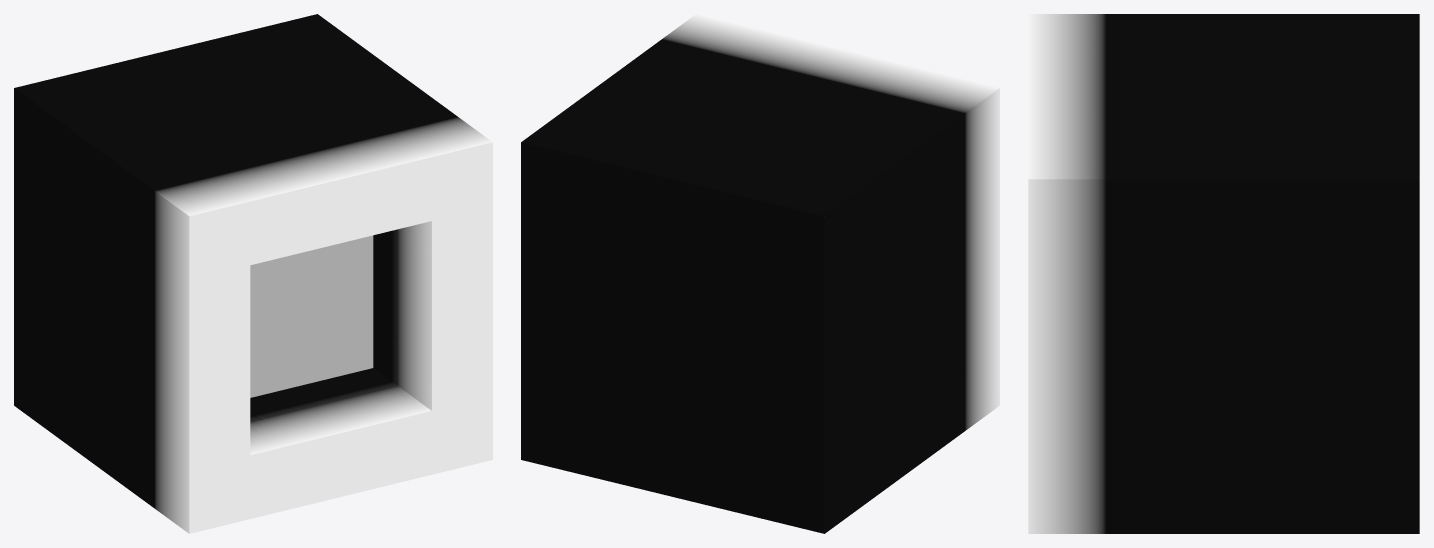
File: testLevelChange.glb
3 views of the same model, side by side, from view 1: azimuth 30°, elevation 25°; view 2: azimuth 150°, elevation 25°; view 3: azimuth 270°, elevation 25° (orthographic). The views are drawn at different scales.
Parts seen in each view (by area): view 1: Cube, mapChangeTrigger; view 2: Cube; view 3: Cube.
Part boxes in pixels (x1=…): Cube: x1=14, y1=14, x2=492, y2=533; mapChangeTrigger: x1=250, y1=235, x2=373, y2=397; Cube: x1=521, y1=14, x2=999, y2=533; Cube: x1=1028, y1=14, x2=1419, y2=533.
Bounding box in the file's own units: 3.65 × 3.65 × 3.65.
1 material, 1 textured.
